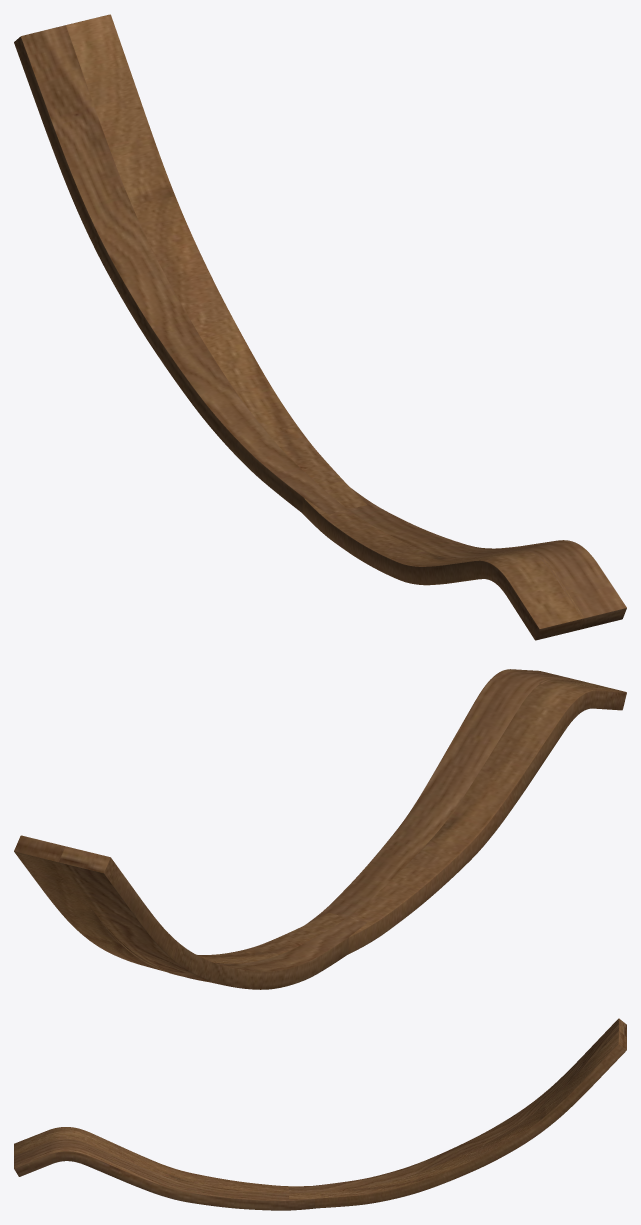
File: conter_support.gltf
3 views of the same model, one above another, from view 1: azimuth 30°, elevation 25°; view 2: azimuth 150°, elevation 25°; view 3: azimuth 270°, elevation 25° (orthographic). The views are drawn at different scales.
Parts seen in each view (by area): view 1: conter_support; view 2: conter_support; view 3: conter_support.
Boxes of the visible parts, bbox=[...] form: conter_support: bbox=[14, 14, 626, 640]; conter_support: bbox=[14, 669, 626, 989]; conter_support: bbox=[14, 1018, 626, 1210].
Bounding box in the file's own units: 0.1687 × 0.5253 × 1.69.
1 material, 1 textured.
